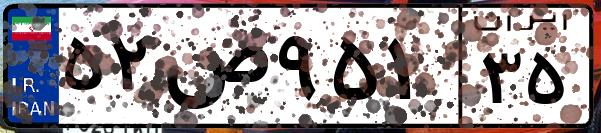1: (385, 28, 445, 110)
2: (110, 28, 158, 98)
3: (475, 38, 525, 113)
5: (330, 28, 385, 110), (57, 26, 110, 100), (525, 38, 570, 115)
9: (270, 28, 330, 110)
ص: (158, 20, 270, 120)
